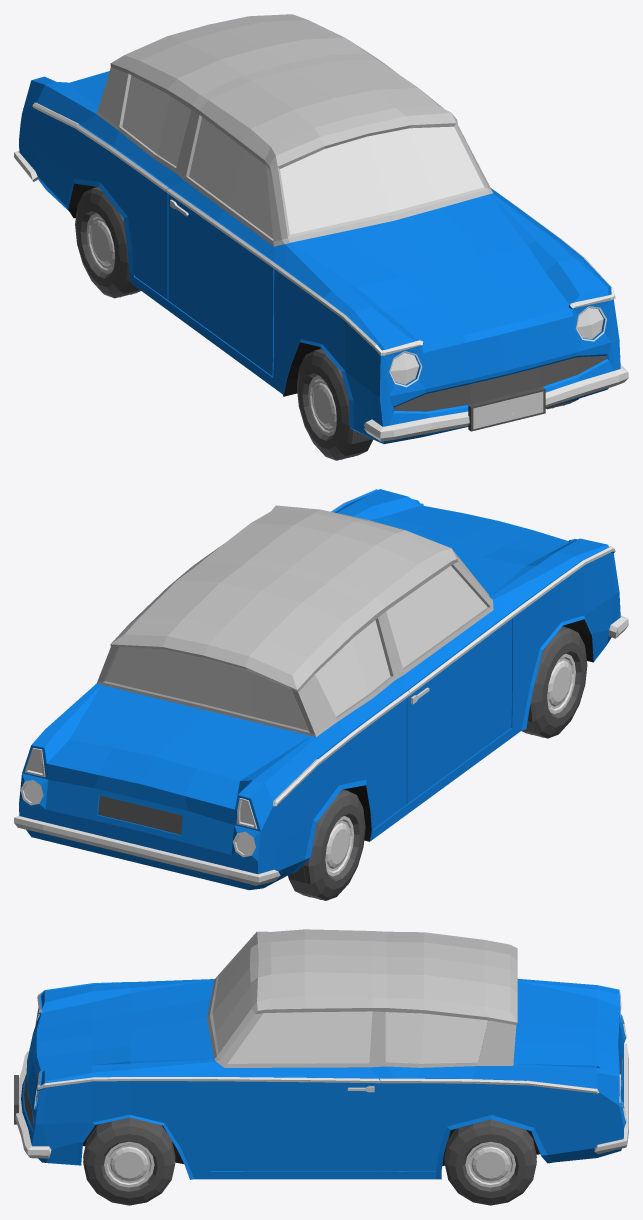
File: ford-angila-low-poly-car.fbx
The picture shows the model from 3 angles, top to bottom: view 1: azimuth 30°, elevation 25°; view 2: azimuth 150°, elevation 25°; view 3: azimuth 270°, elevation 25°; orthographic projection. The views are drawn at different scales.
Visible parts, largest first — view 1: car, Tyre, Plane; view 2: car, Tyre; view 3: car, Tyre.
Part boxes in pixels (bbox=[...]): car: bbox=[14, 14, 628, 443]; Tyre: bbox=[75, 187, 578, 460]; Plane: bbox=[468, 387, 545, 431]; car: bbox=[14, 489, 628, 890]; Tyre: bbox=[288, 626, 587, 900]; car: bbox=[15, 929, 628, 1179]; Tyre: bbox=[83, 1117, 536, 1205].
Bounding box in the file's own units: 393 × 145 × 153.
